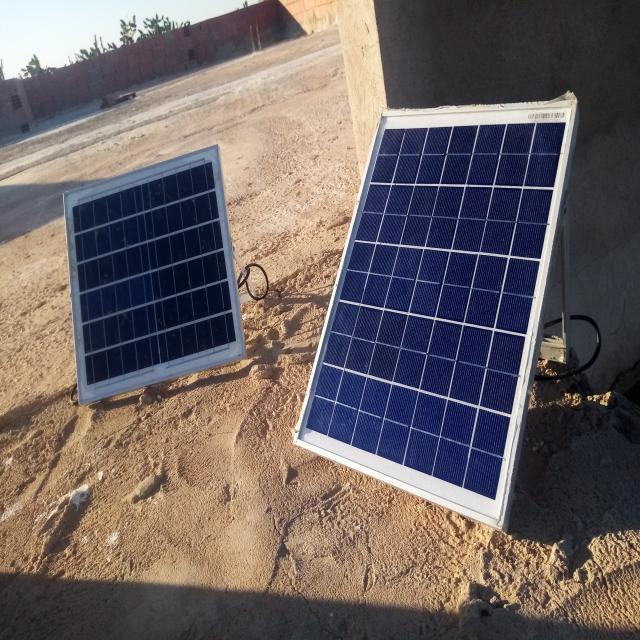Normal Solar Panel: (296, 99, 575, 527)
